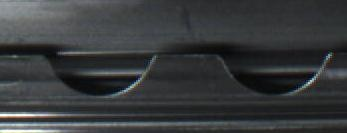twou: (56, 48, 316, 102)
